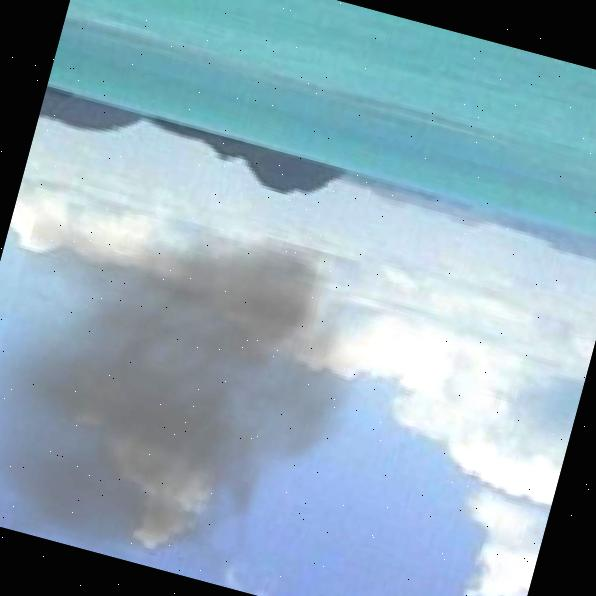smoke: (16, 225, 351, 554)
